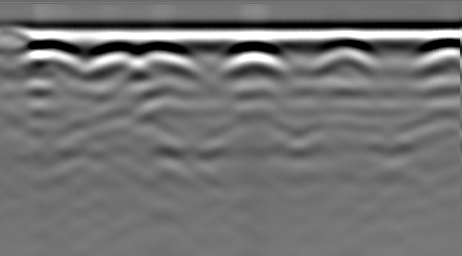pipe: (1, 25, 28, 44)
steel: (317, 40, 373, 72), (225, 44, 282, 75), (141, 44, 190, 77), (23, 40, 71, 68), (94, 43, 134, 74), (421, 43, 462, 72)
